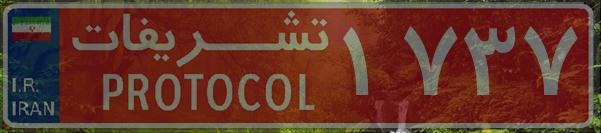1: (340, 20, 400, 115)
3: (460, 20, 520, 115)
7: (400, 20, 460, 115), (520, 20, 580, 115)
تشریفات: (60, 8, 340, 125)
